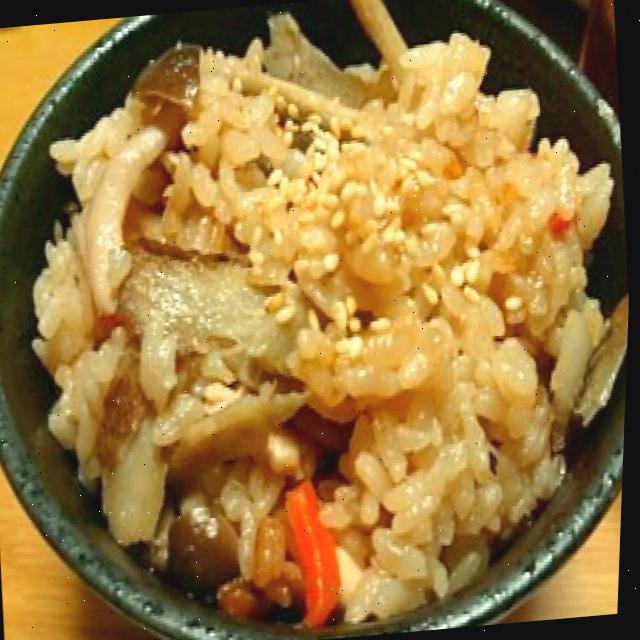米饭主食: (13, 0, 640, 634)
